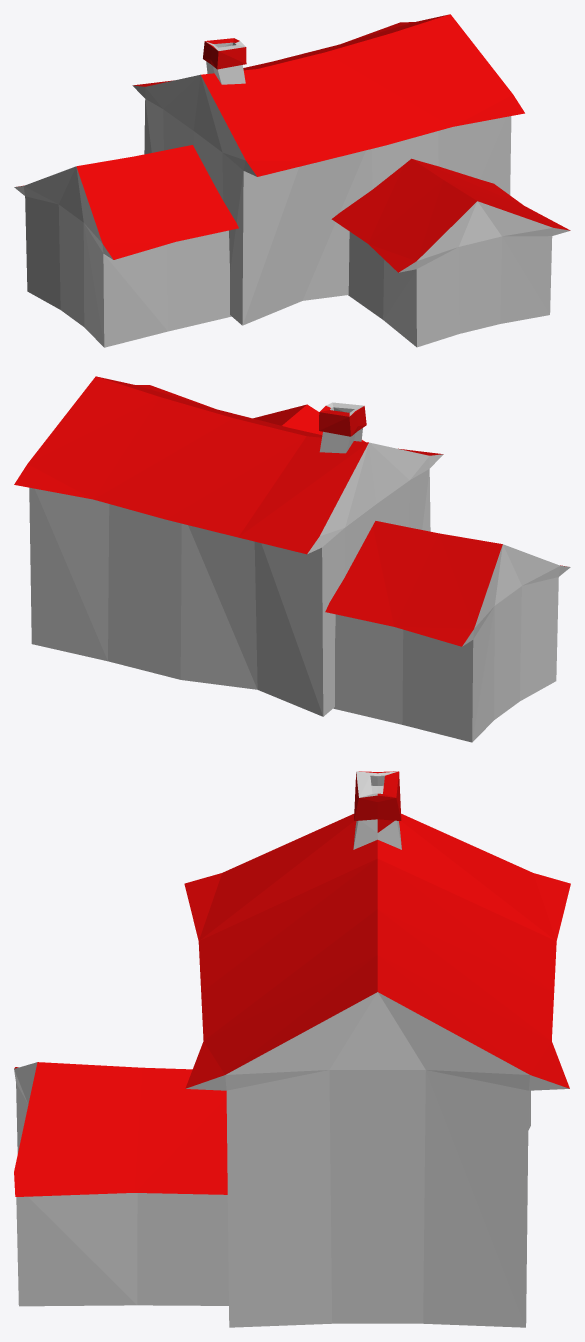
File: Farmhouse02.fbx
3 renders of one model, top to bottom at view 1: azimuth 30°, elevation 25°; view 2: azimuth 150°, elevation 25°; view 3: azimuth 270°, elevation 25°, orthographic. The views are drawn at different scales.
Visible parts, largest first — view 1: Farmhouse02; view 2: Farmhouse02; view 3: Farmhouse02.
Boxes of the visible parts, left/top/right/bottom form: Farmhouse02: left=14, top=14, right=570, bottom=347; Farmhouse02: left=14, top=376, right=570, bottom=742; Farmhouse02: left=14, top=771, right=570, bottom=1327.
Bounding box in the file's own units: 29.8 × 17.16 × 23.29.
